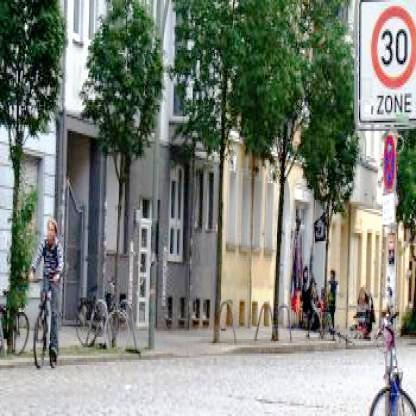Speed Limit -30-: (364, 4, 414, 92)
